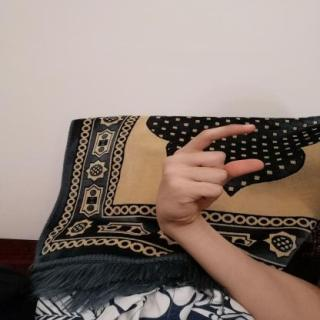DELL: (146, 116, 276, 229)
